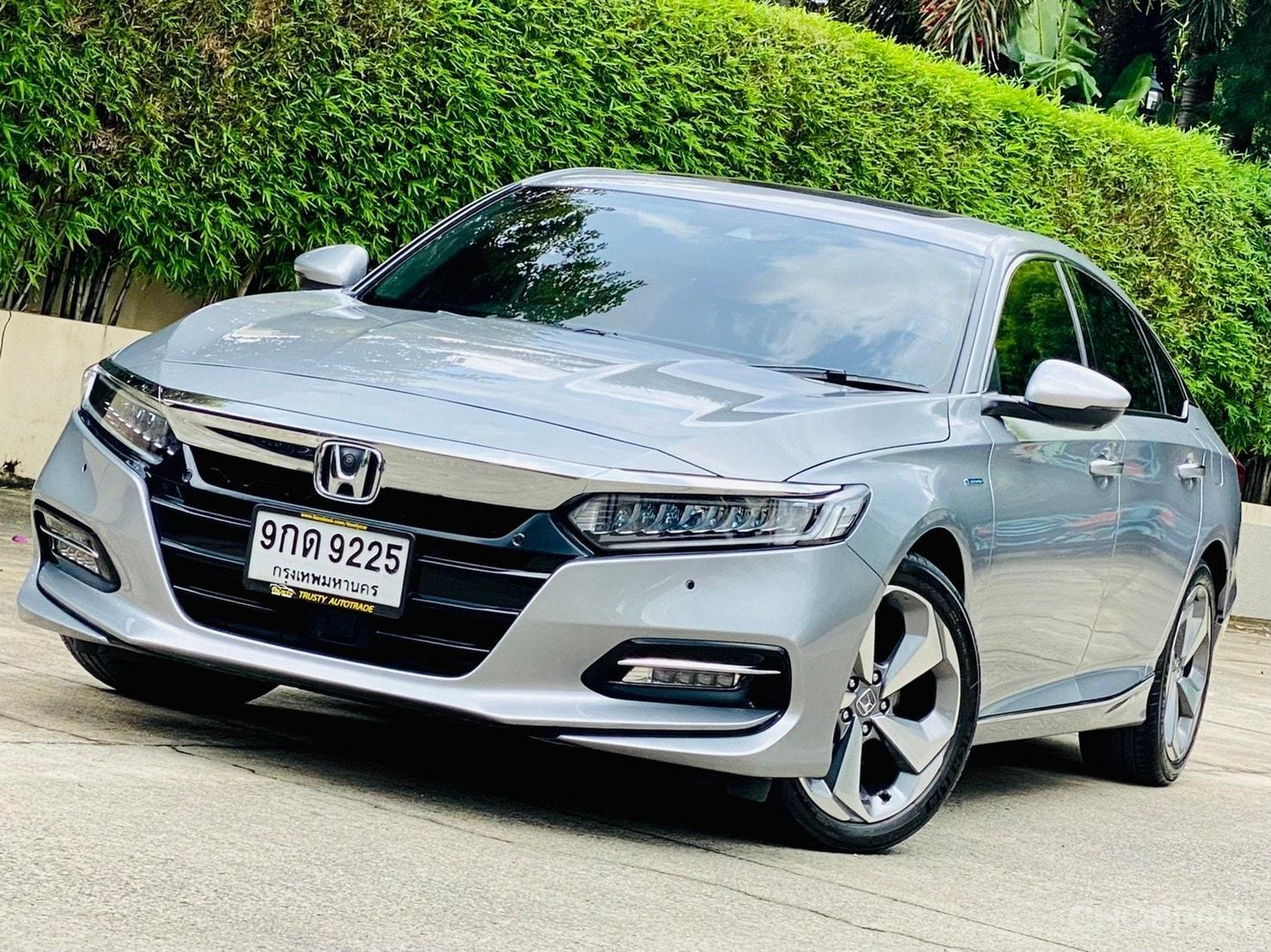license-plate: (237, 490, 422, 636)
